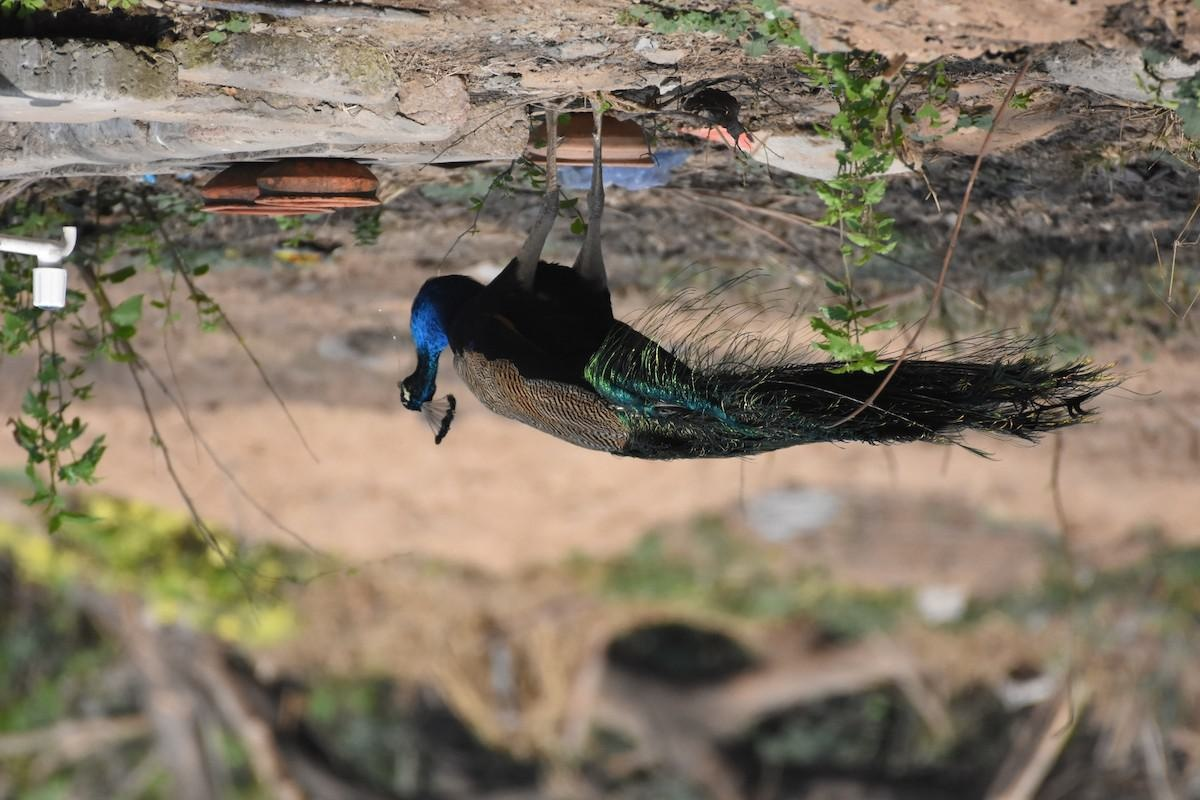peacock: (378, 234, 1066, 495)
